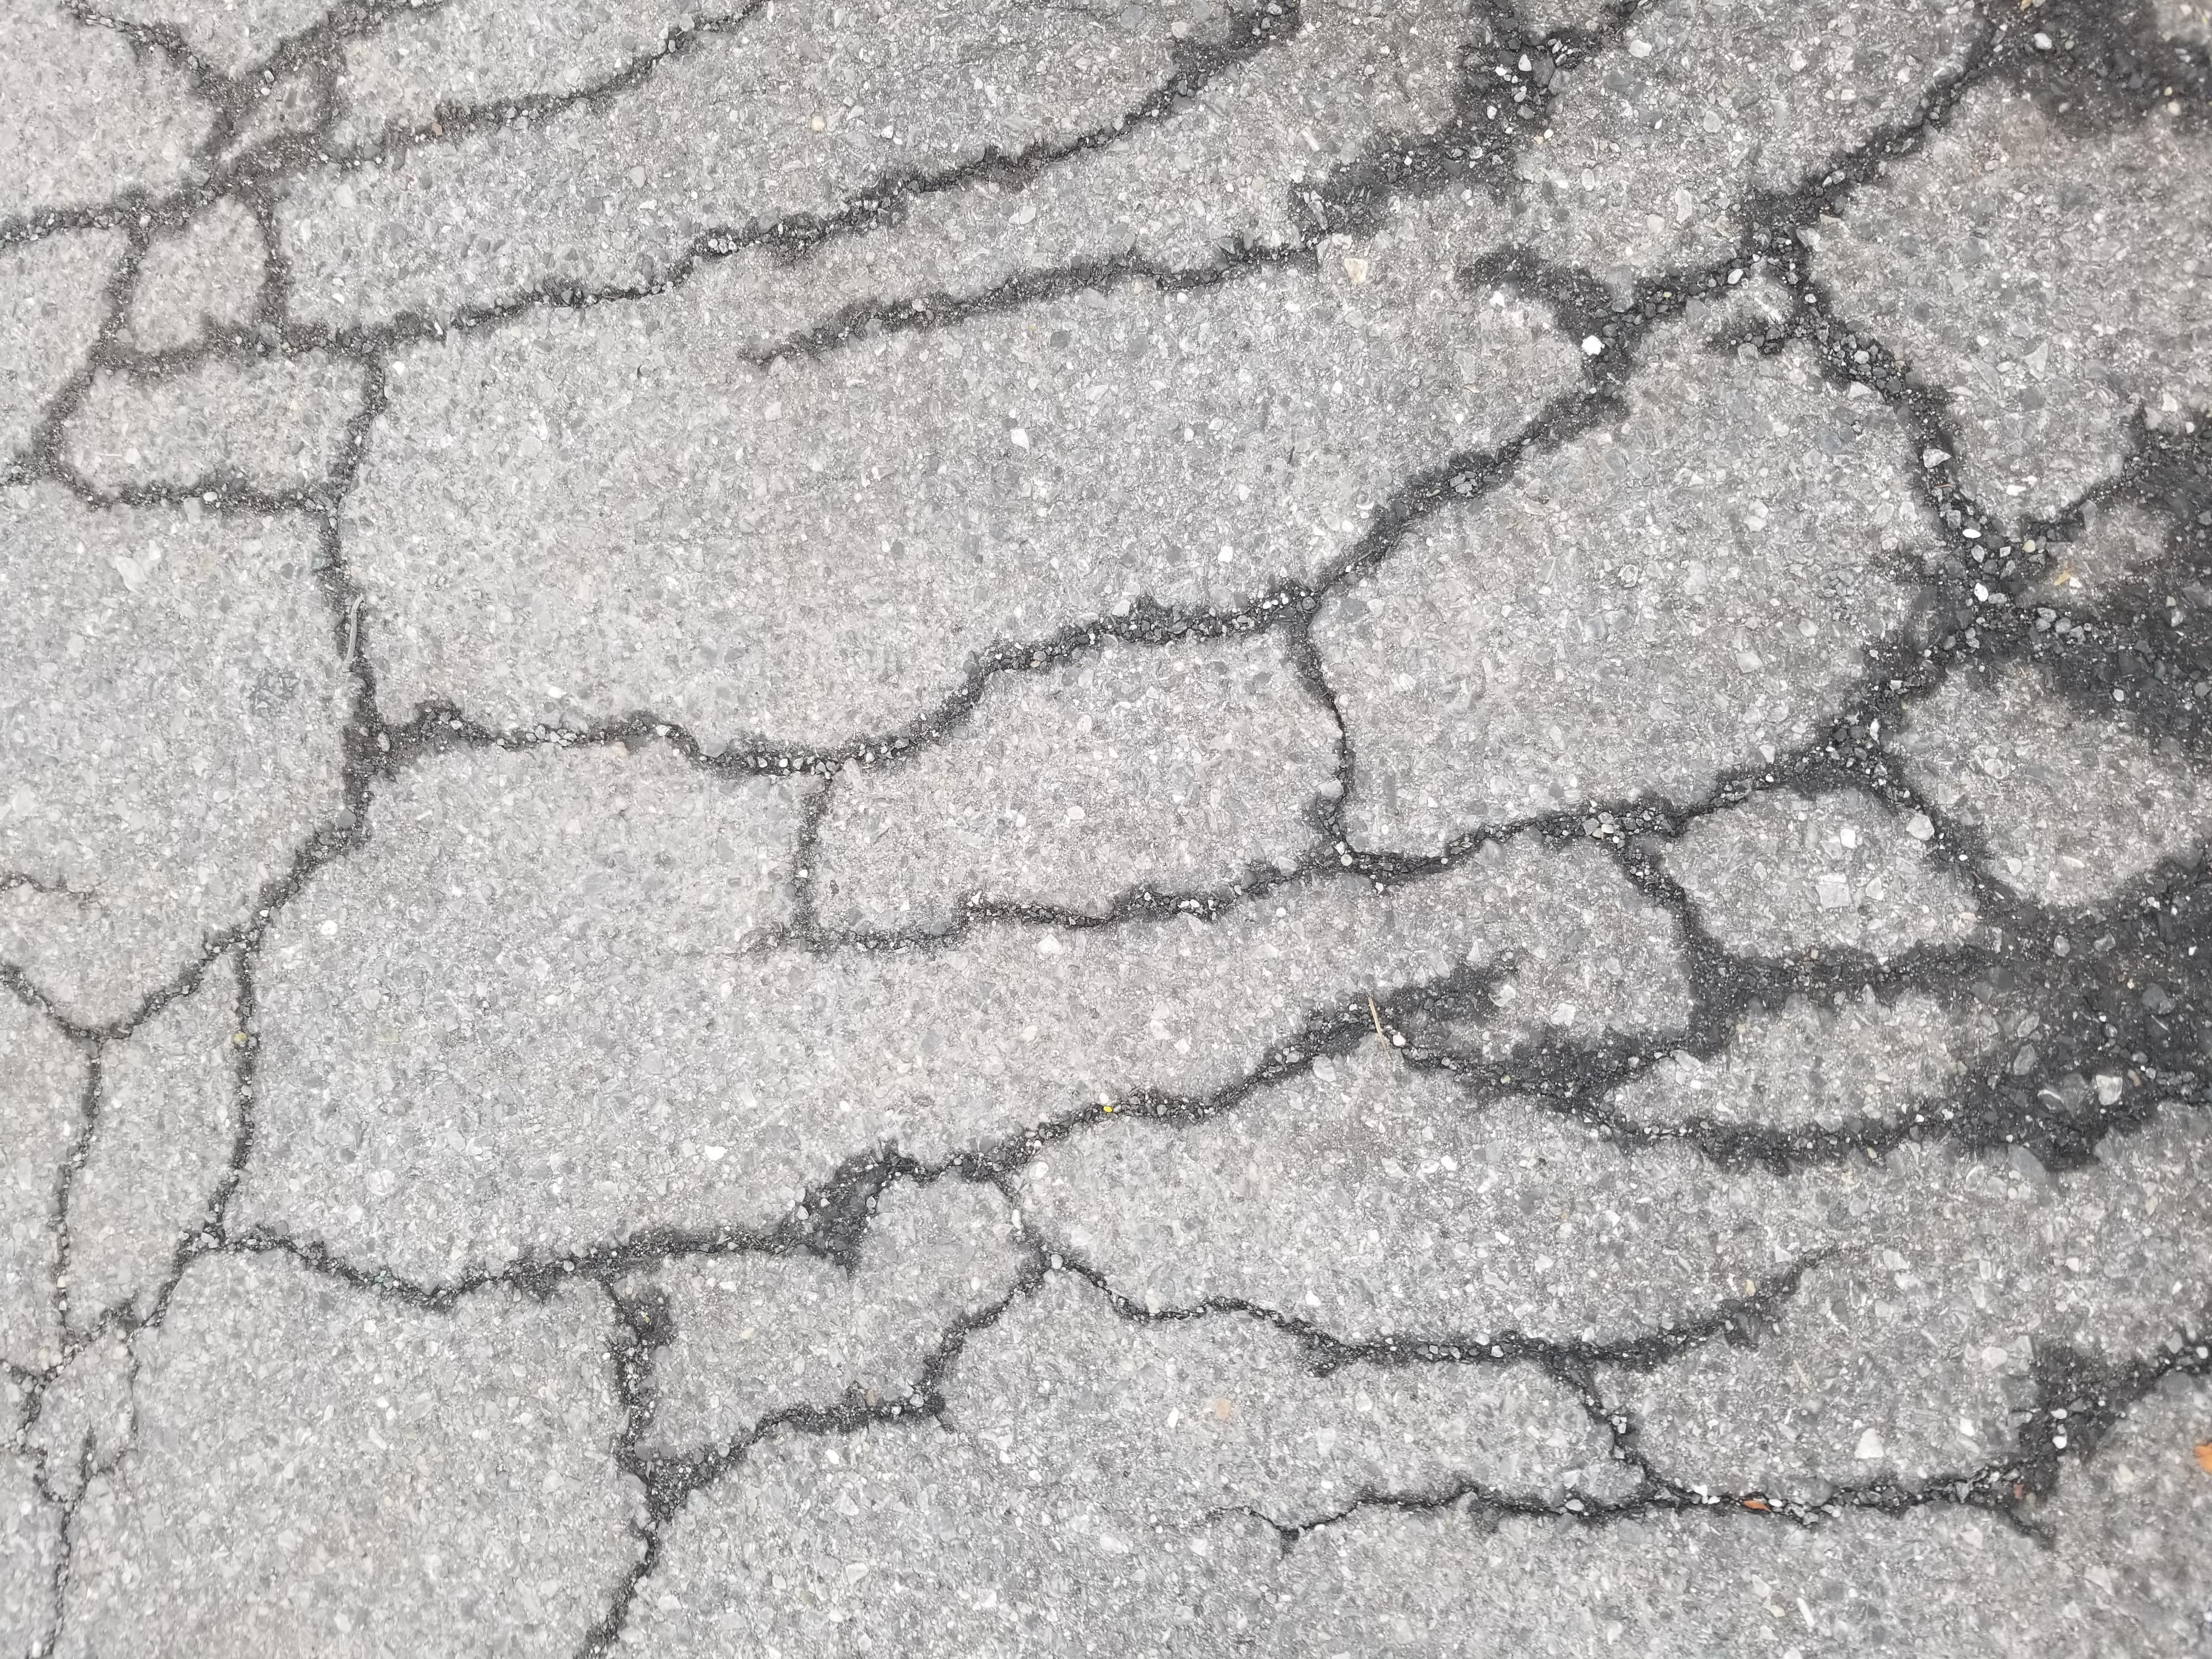alligator-crack: (12, 14, 2212, 1659)
